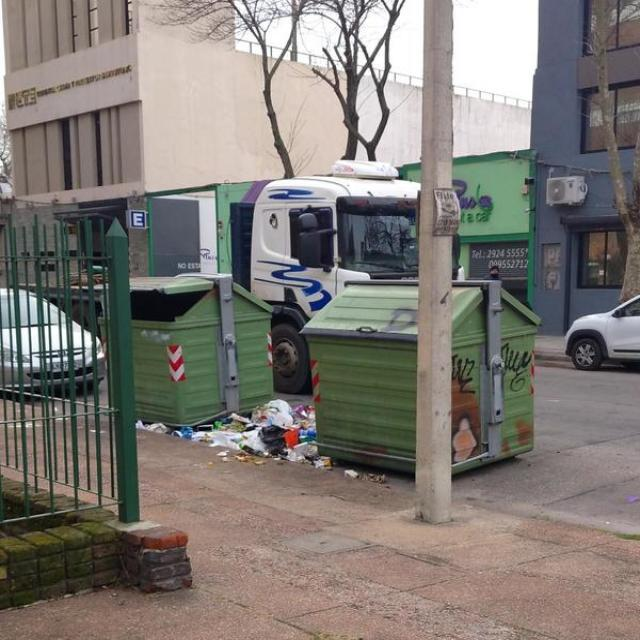garbage: (172, 392, 332, 476)
